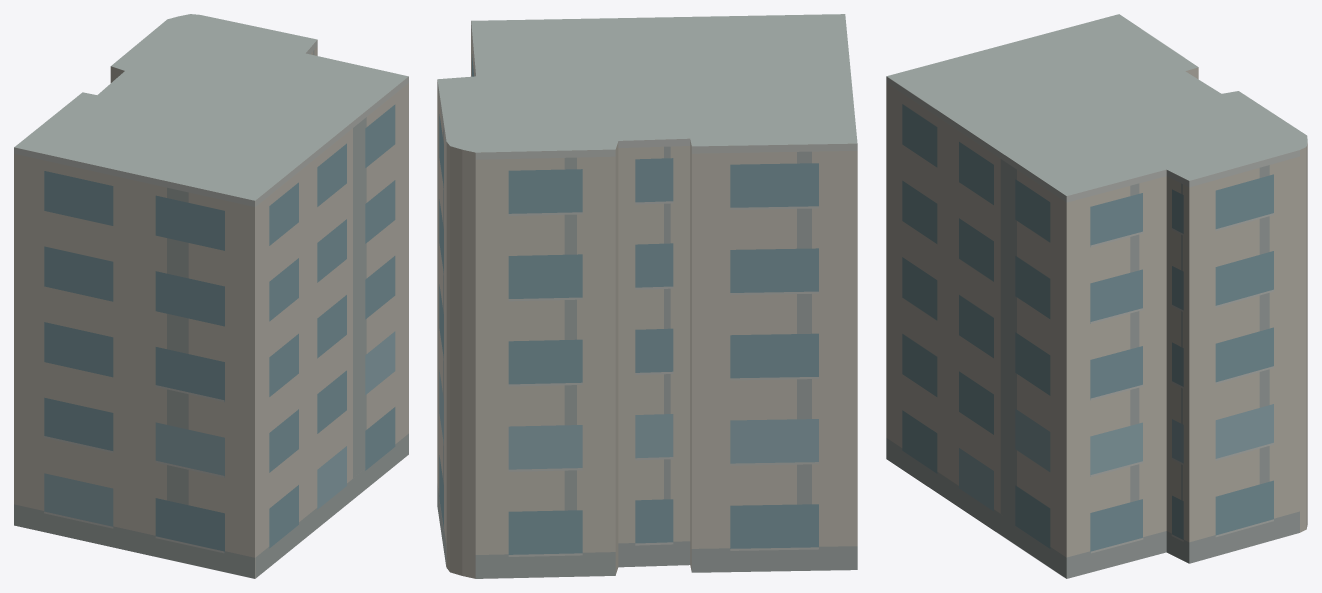
Rendered from survey-upis-32719670.glb.
3 renders of one model, left to right at view 1: azimuth 30°, elevation 25°; view 2: azimuth 150°, elevation 25°; view 3: azimuth 270°, elevation 25°, orthographic. The views are drawn at different scales.
Visible parts, largest first — view 1: survey-upis-32719670.tmp; view 2: survey-upis-32719670.tmp; view 3: survey-upis-32719670.tmp.
Part boxes in pixels (box(x1,y1,x2,y2)): survey-upis-32719670.tmp: box(14, 14, 408, 578); survey-upis-32719670.tmp: box(437, 14, 857, 578); survey-upis-32719670.tmp: box(886, 14, 1307, 578).
Size of the model in its own units: 14.71 by 14.4 by 14.37.
